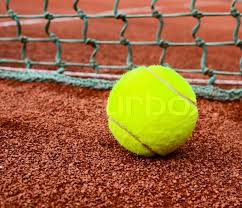tennis_ball: (106, 64, 198, 158)
